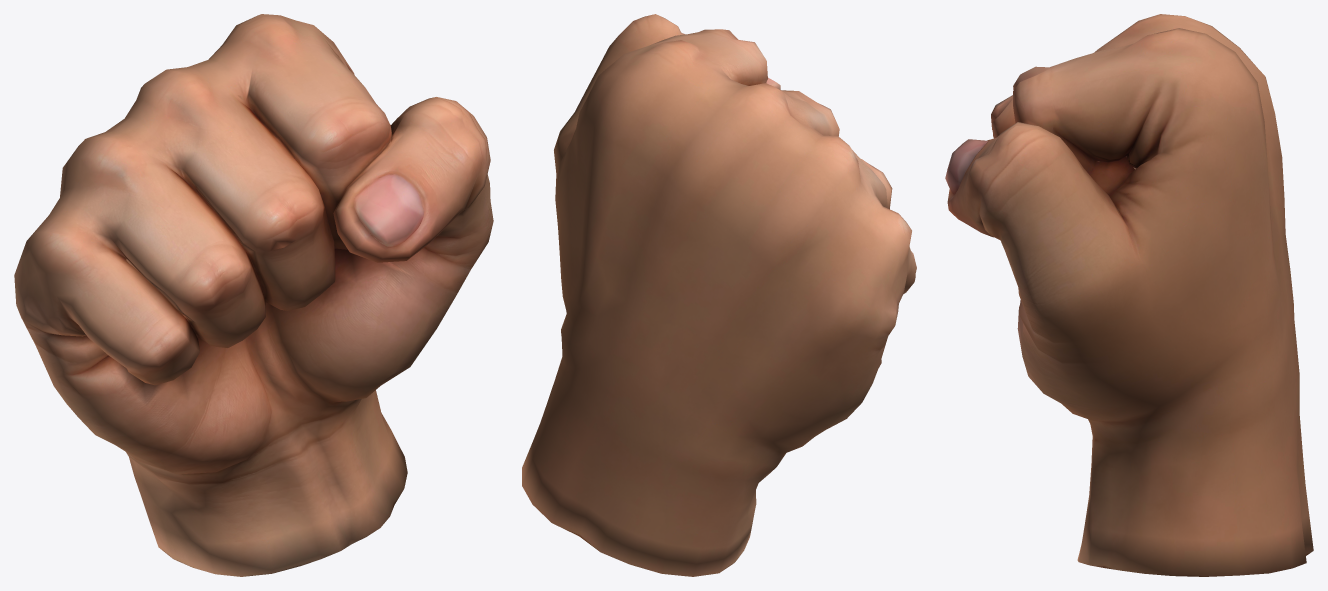
Rendered from ROCK.glb.
The picture shows the model from 3 angles, left to right: view 1: azimuth 30°, elevation 25°; view 2: azimuth 150°, elevation 25°; view 3: azimuth 270°, elevation 25°; orthographic projection. The views are drawn at different scales.
Visible parts, largest first — view 1: tripo_node_2bbc91b3-546f-4408-81f0-63781dc5b19b; view 2: tripo_node_2bbc91b3-546f-4408-81f0-63781dc5b19b; view 3: tripo_node_2bbc91b3-546f-4408-81f0-63781dc5b19b.
Boxes of the visible parts, <box> form: tripo_node_2bbc91b3-546f-4408-81f0-63781dc5b19b: <box>14,14,493,576</box>; tripo_node_2bbc91b3-546f-4408-81f0-63781dc5b19b: <box>522,14,916,576</box>; tripo_node_2bbc91b3-546f-4408-81f0-63781dc5b19b: <box>945,14,1313,576</box>.
Size of the model in its own units: 0.7939 by 0.9776 by 0.6026.
Materials: 1 (1 with a texture image).
